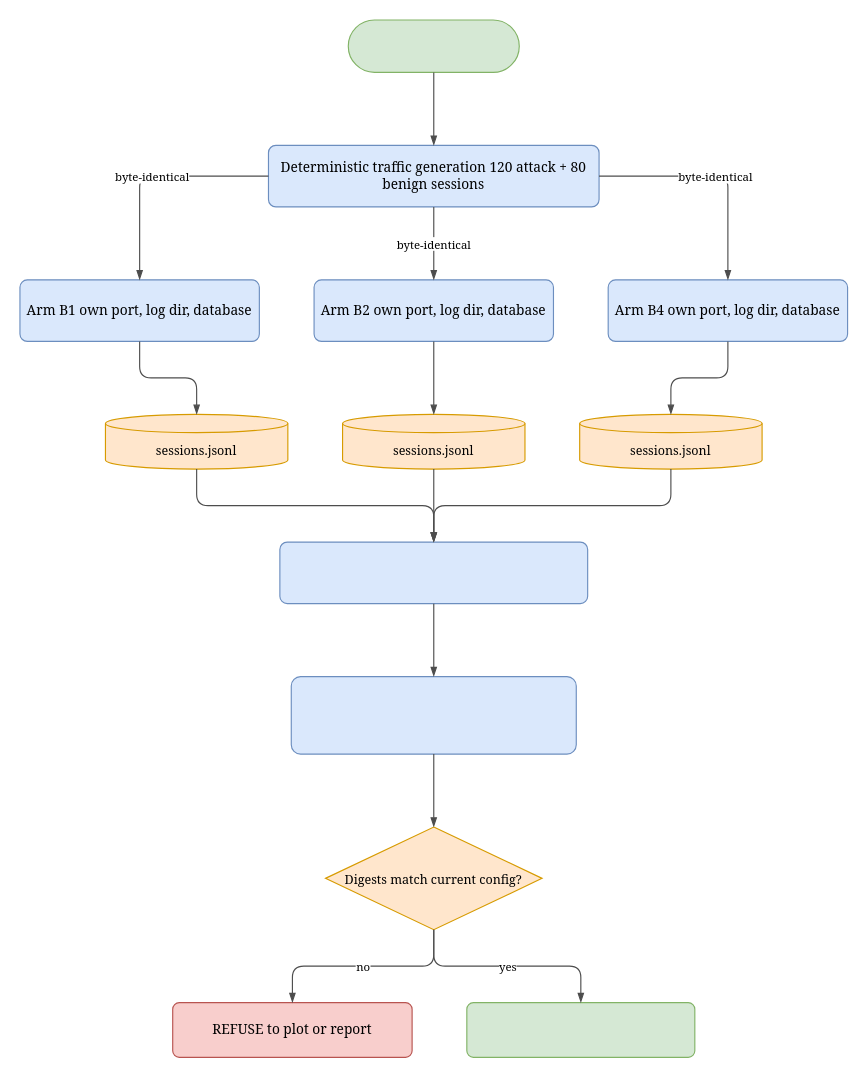
This 868x1077 diagram has some shape labels left out. The box of each missing label's shape, as (x1, y1, x2, y2) in pixels:
Figures and tables: (466, 1001, 695, 1057)
Merge refuses overlapping seed ranges: (279, 541, 588, 604)
Seed s: (347, 19, 519, 72)
Statistical report Wilson CIs, paired McNemar, Fisher exact, bootstrap: (290, 675, 576, 754)
